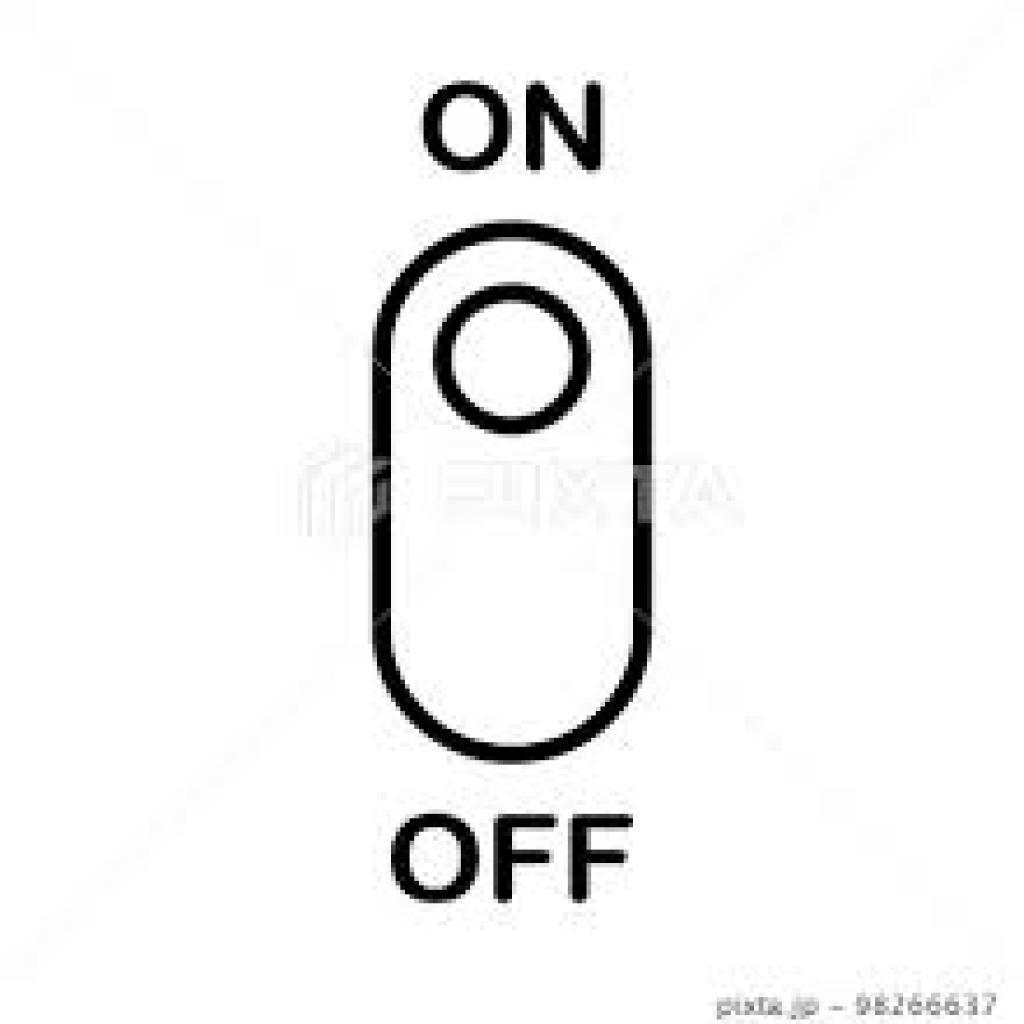switch: (375, 221, 651, 763)
